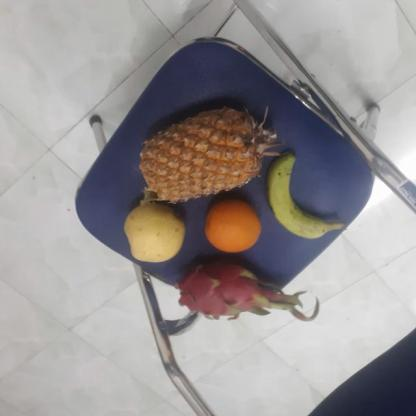banana: (263, 152, 334, 239)
orange: (200, 195, 263, 254)
pear: (122, 203, 189, 263)
pineapple: (144, 110, 268, 201)
pitaya: (178, 254, 277, 321)
